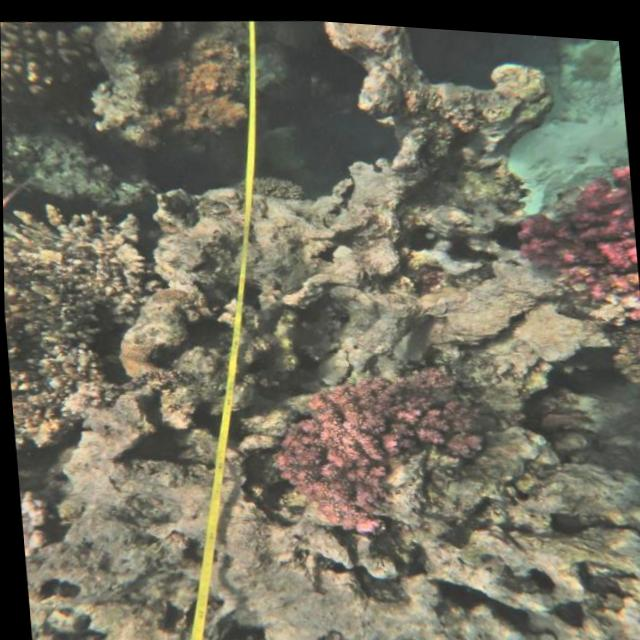Healthy Coral: (254, 360, 487, 532), (517, 163, 640, 330)
